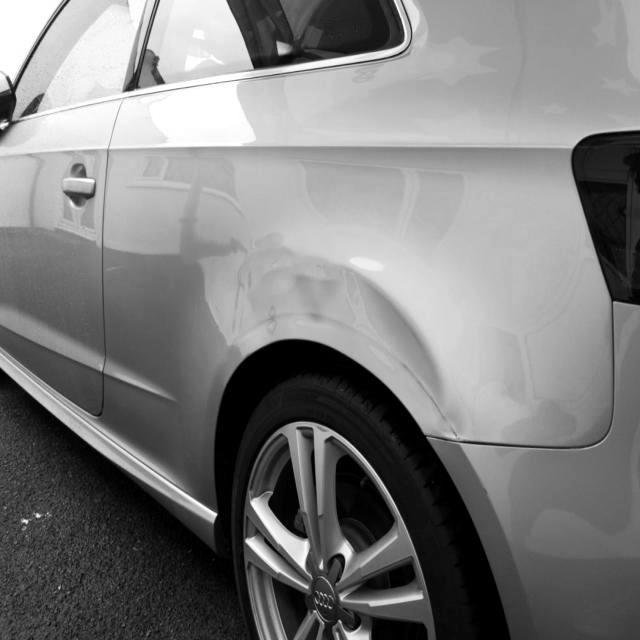quaterpanel-dent: (203, 215, 533, 442)
